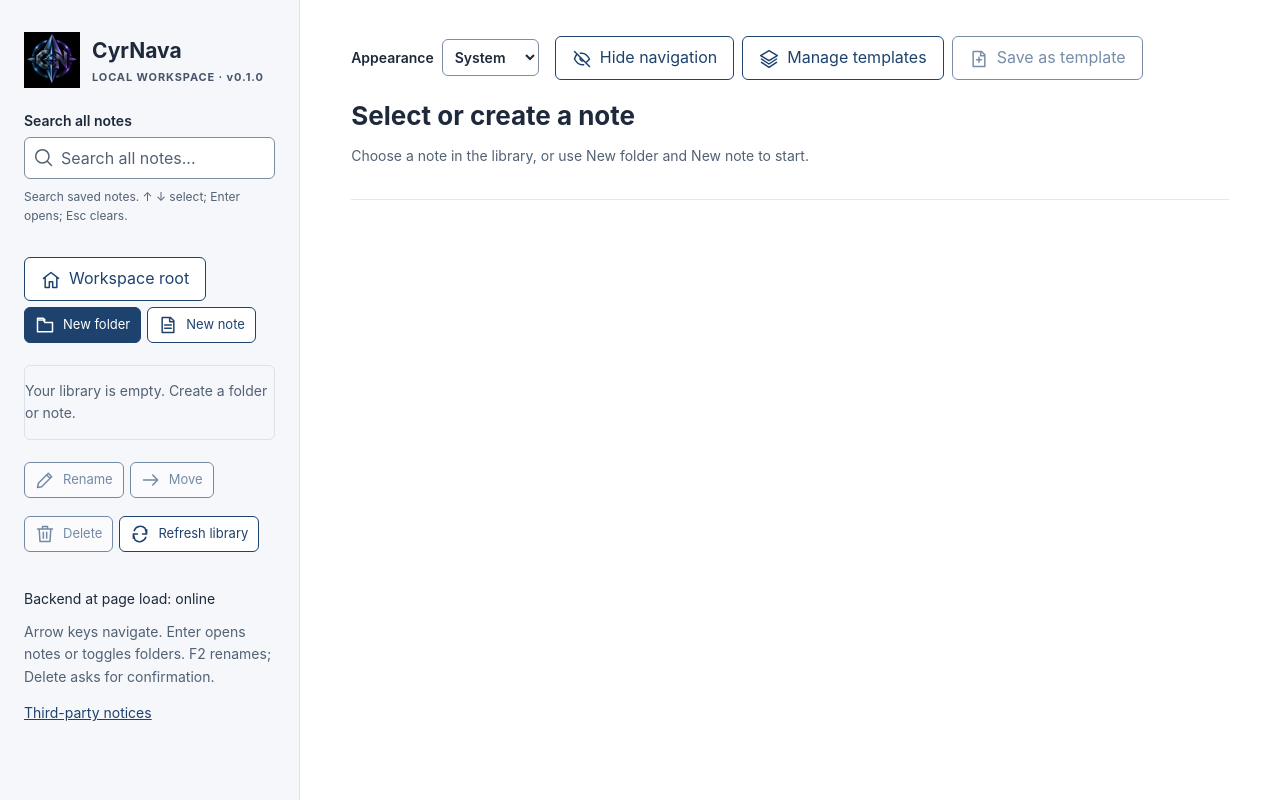
M1 behavior preserved through the library › creates a note and stores only its identifier in localStorage
Click the button "New note": [202, 325] box [147,307,256,343]
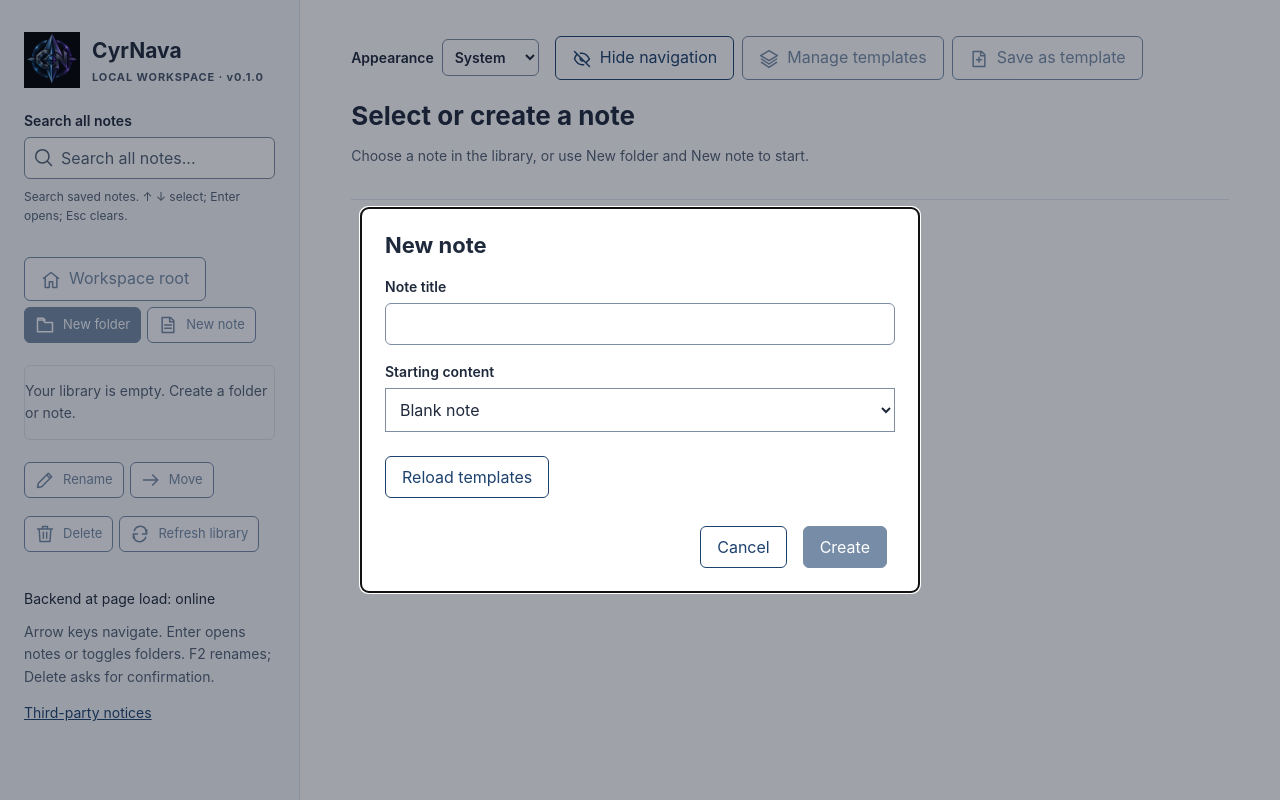
In the field labelled "Note title": [640, 324] box [385,303,895,345], type "Initial title"
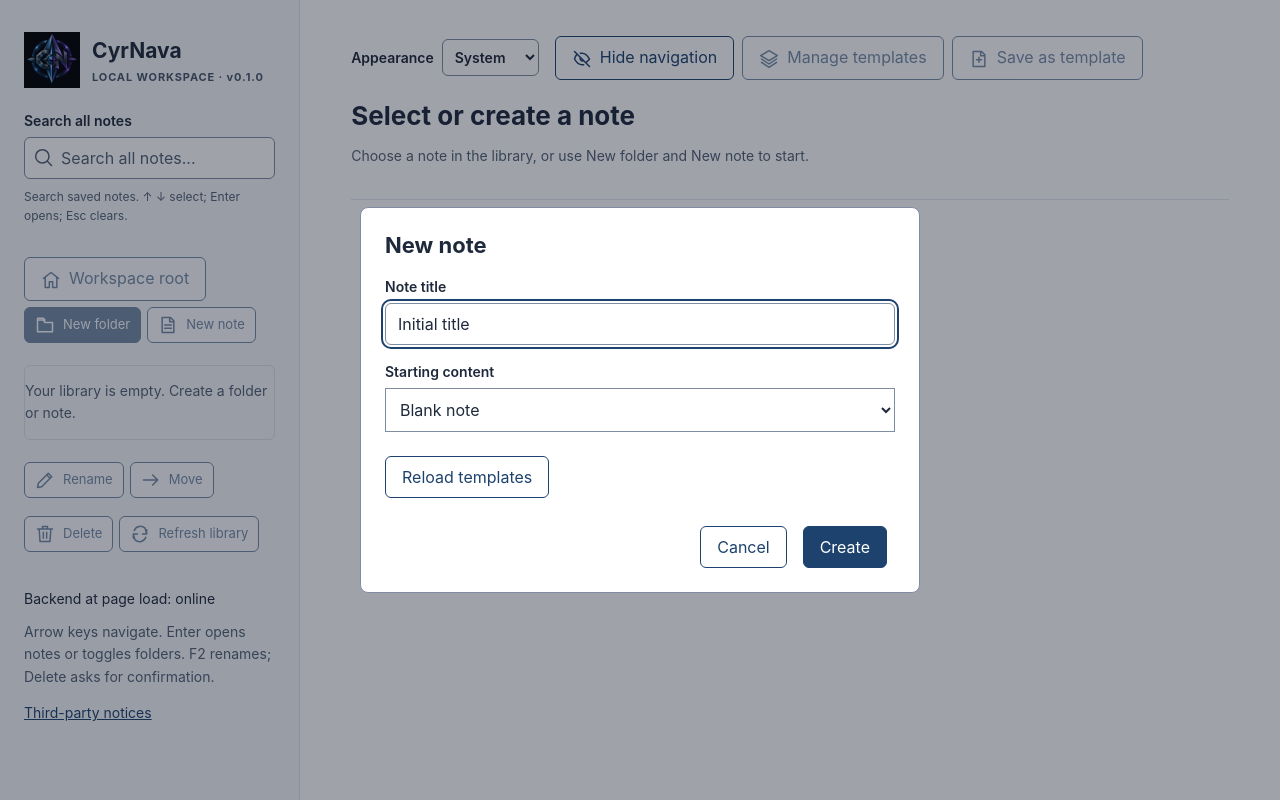
Click the button "Create": [845, 547] box [803,526,887,568]
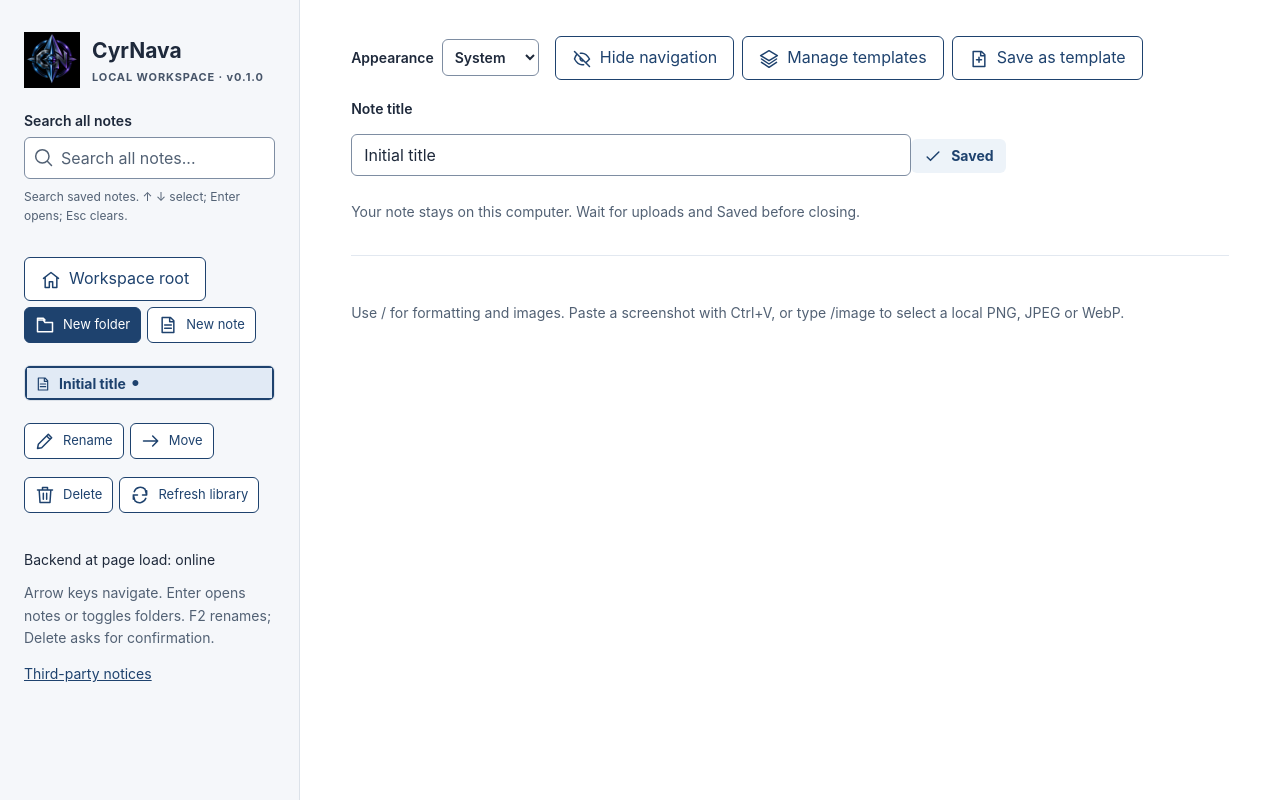
Check: the dialog is gone
Check: the button "New folder" is enabled, box [24,307,141,343]
Check: the element named "Note editor" is shown, box [351,304,1124,321]
